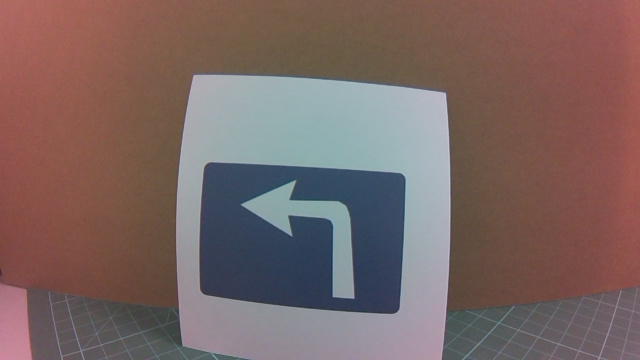left: (198, 159, 427, 319)
